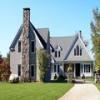chimneys: (22, 8, 30, 82), (80, 31, 82, 39)
